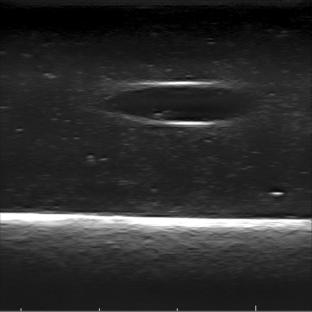vessel: (107, 80, 254, 126)
